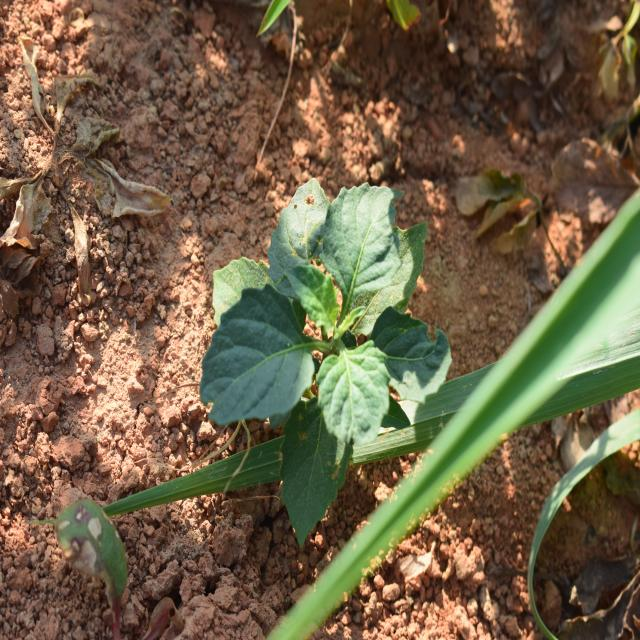Black_nightshade: (200, 178, 434, 454)
